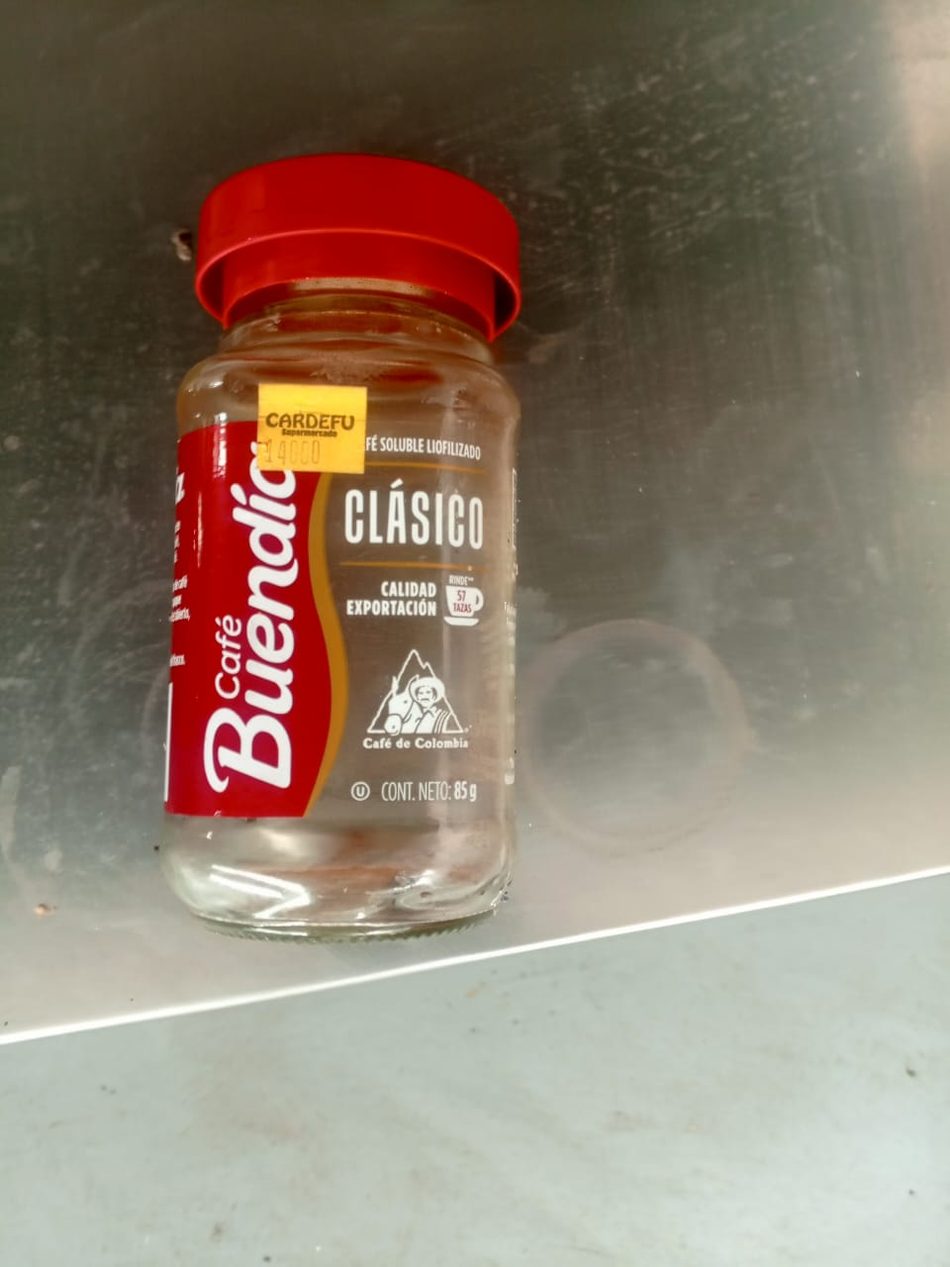Plastico: (198, 159, 521, 297)
Vidrio: (159, 293, 518, 944)
